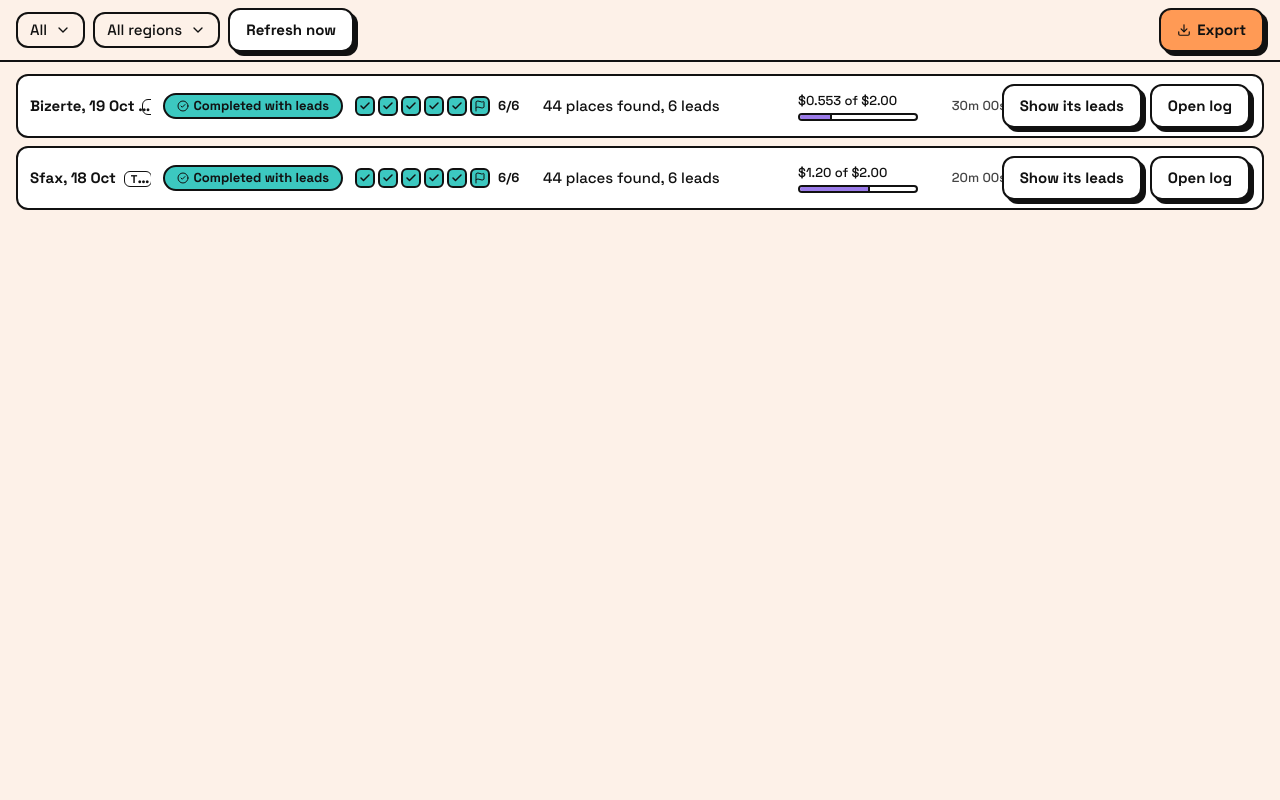
Test: Logs export mode › only reads and exports the runs that were picked
Check: the text "Bizerte, 19 Oct" is shown, box [30,96,134,115]
Click the button "Export" at x=1212, y=30, box [1159,8,1264,52]
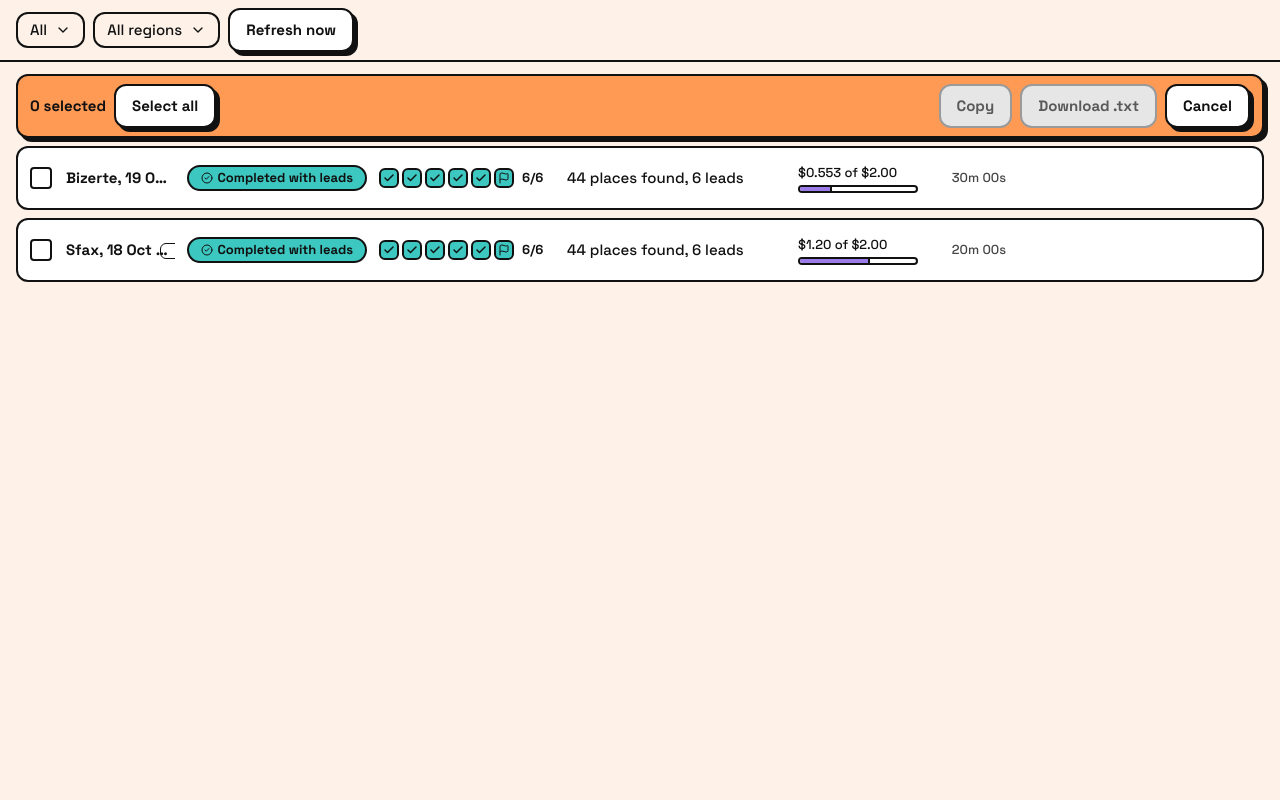
Click the text "Sfax, 18 Oct" at x=121, y=250, box [66,239,176,261]
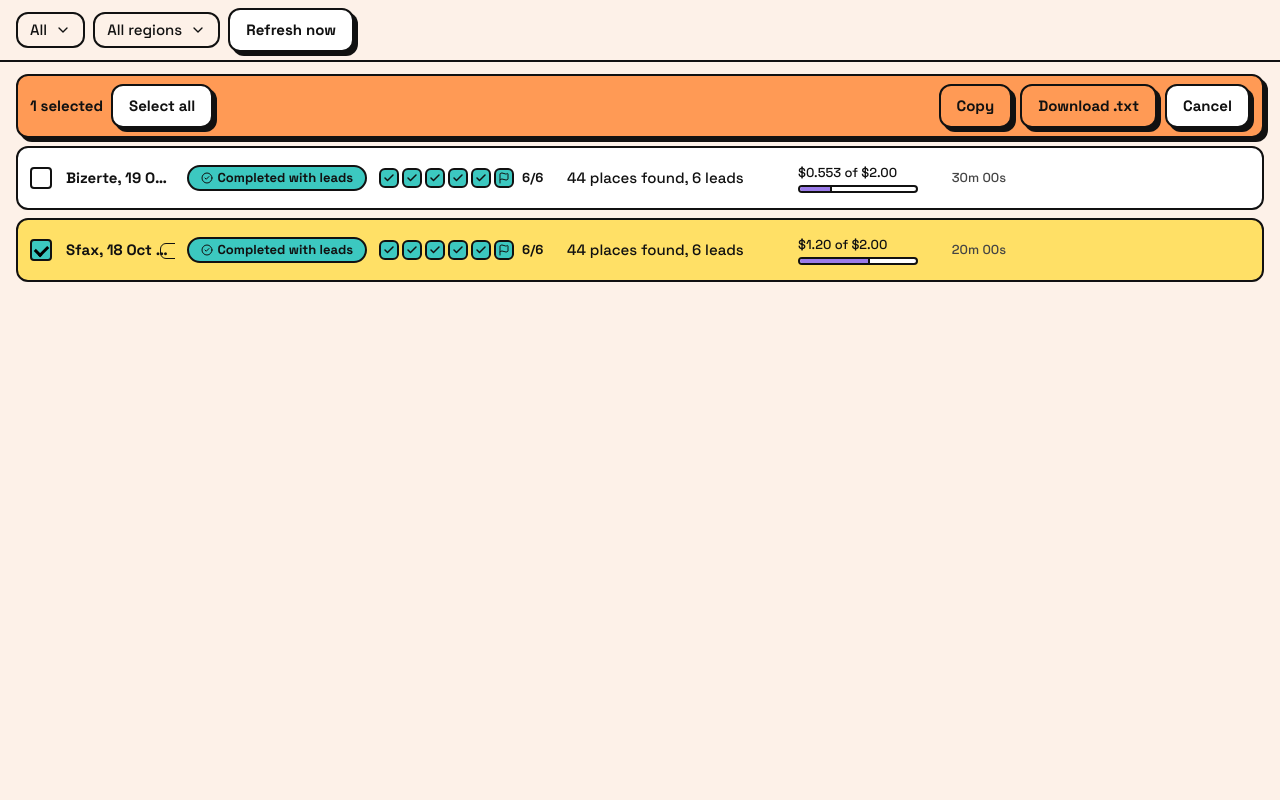
Click the button "Copy" at x=975, y=106, box [938,84,1012,128]
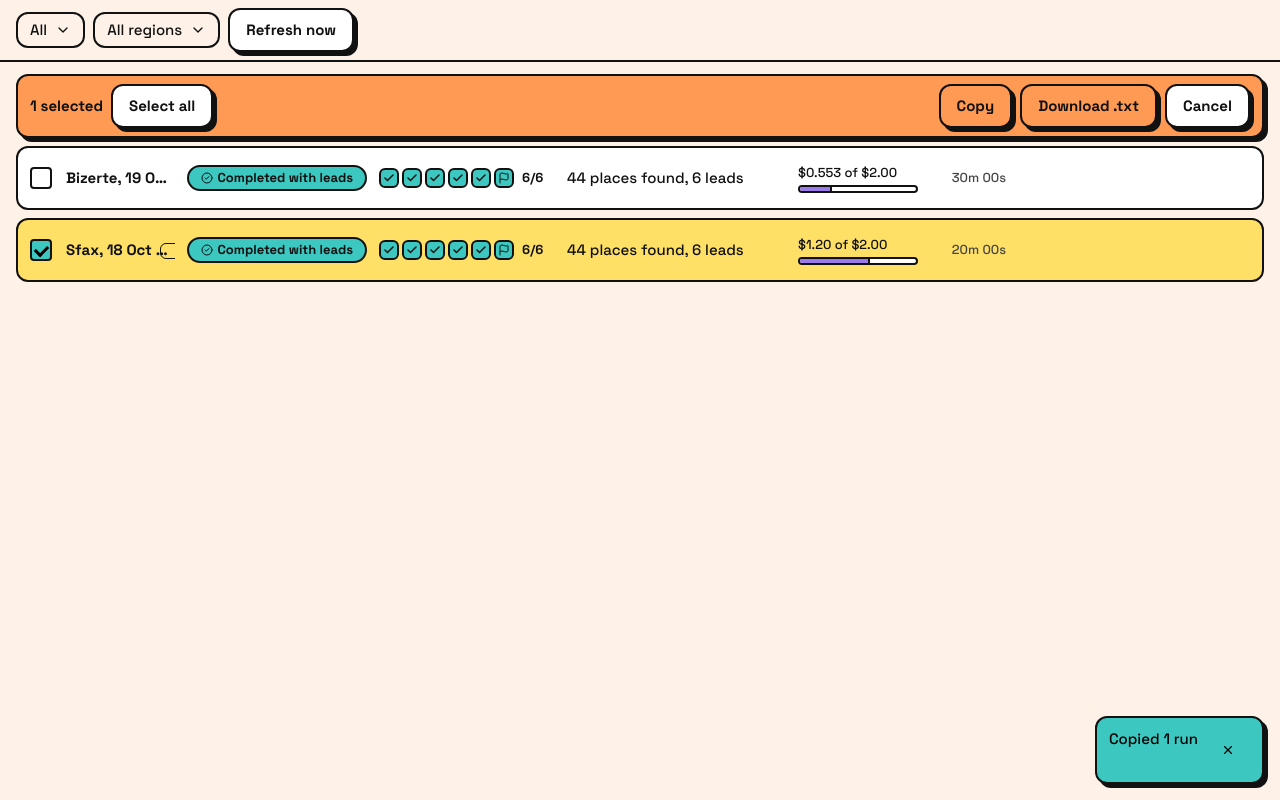
Check: the text "Copied 1 run" is shown, box [1109,728,1198,750]
